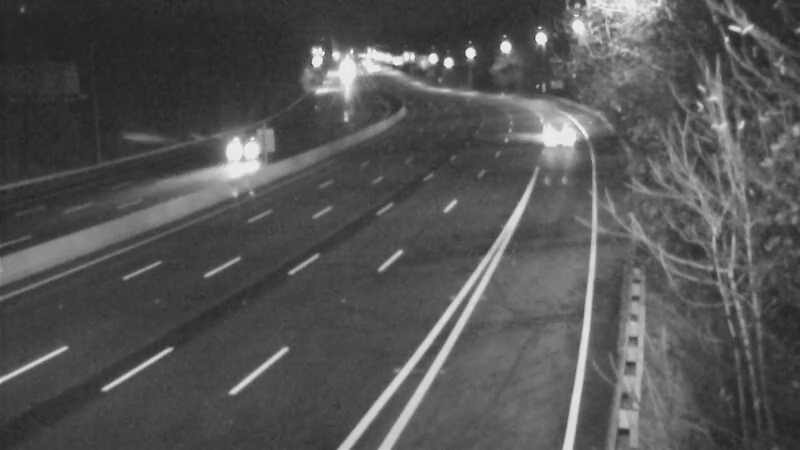vehicle: (196, 111, 276, 191), (521, 102, 571, 152)
